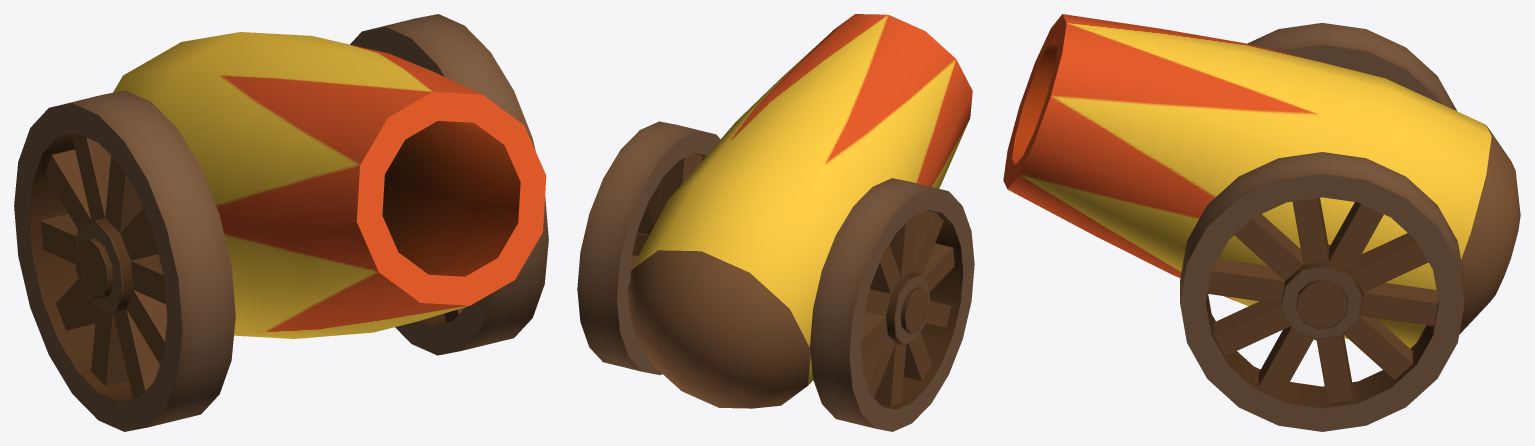
Rendered from canon.FBX.
3 views of the same model, side by side, from view 1: azimuth 30°, elevation 25°; view 2: azimuth 150°, elevation 25°; view 3: azimuth 270°, elevation 25° (orthographic). The views are drawn at different scales.
Parts seen in each view (by area): view 1: canon; view 2: canon; view 3: canon.
Part boxes in pixels (box(x1,y1,x2,y2)): canon: box(14, 14, 548, 431); canon: box(577, 14, 974, 431); canon: box(1003, 14, 1520, 431).
Bounding box in the file's own units: 33.38 × 33.23 × 46.73.
